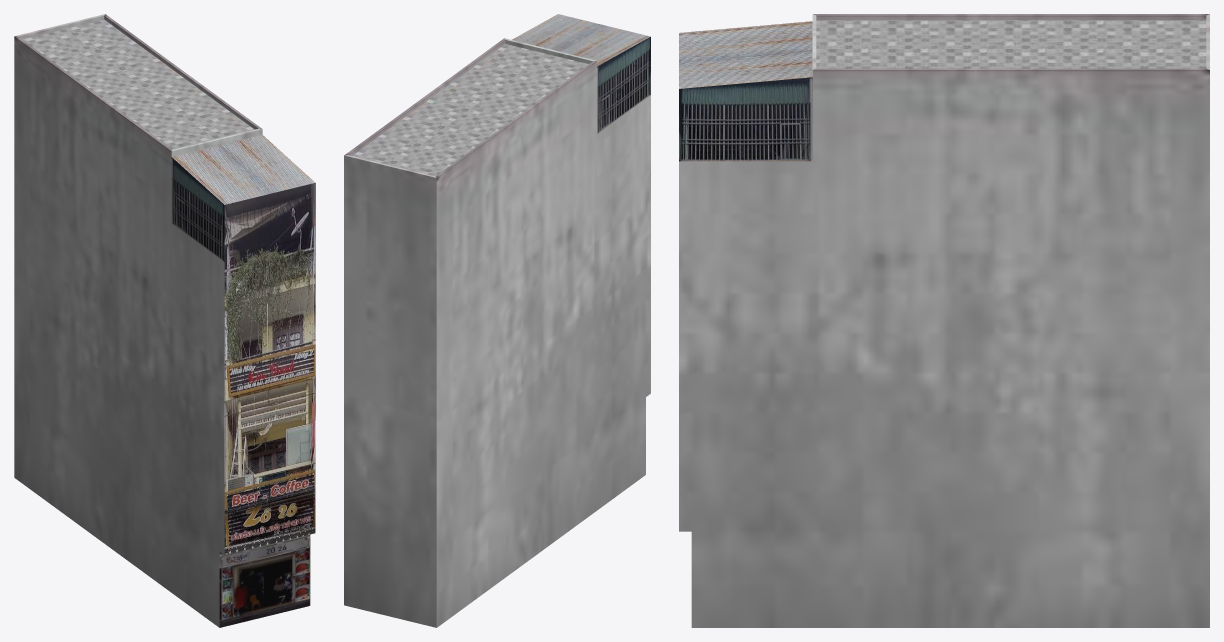
The picture shows the model from 3 angles, left to right: view 1: azimuth 30°, elevation 25°; view 2: azimuth 150°, elevation 25°; view 3: azimuth 270°, elevation 25°; orthographic projection. The views are drawn at different scales.
Parts seen in each view (by area): view 1: HN927_Zo26; view 2: HN927_Zo26; view 3: HN927_Zo26.
Part boxes in pixels (<box>): HN927_Zo26: <box>14,14,315,627</box>; HN927_Zo26: <box>344,14,650,627</box>; HN927_Zo26: <box>679,14,1209,627</box>.
Bounding box in the file's own units: 5 × 23.19 × 20.
1 material, 1 textured.
